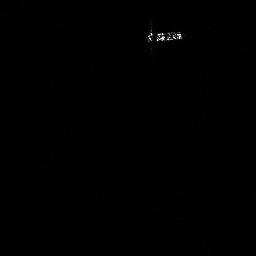ship: (144, 26, 184, 43)
